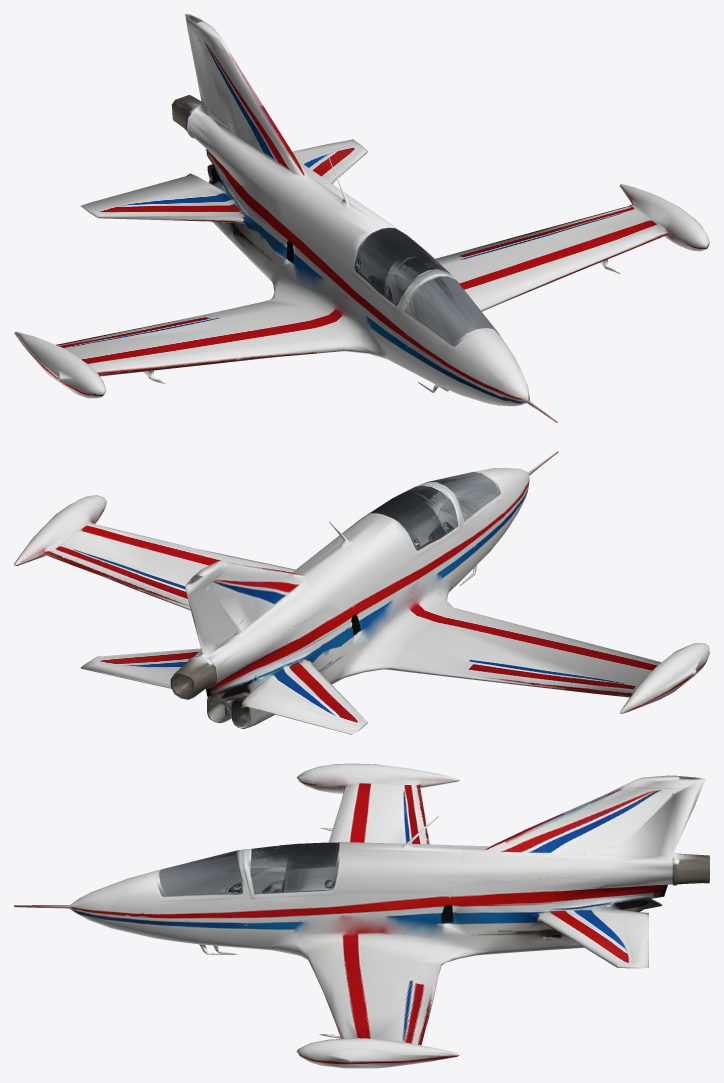
File: acrostar.glb
3 views of the same model, one above another, from view 1: azimuth 30°, elevation 25°; view 2: azimuth 150°, elevation 25°; view 3: azimuth 270°, elevation 25° (orthographic). The views are drawn at different scales.
Parts seen in each view (by area): view 1: node_0; view 2: node_0; view 3: node_0.
Part boxes in pixels (x1,y1,x2,y2): node_0: (14,14,709,422); node_0: (14,451,709,734); node_0: (14,763,709,1068).
Bounding box in the file's own units: 1.15 × 0.3287 × 1.17.
Materials: 1 (1 with a texture image).
